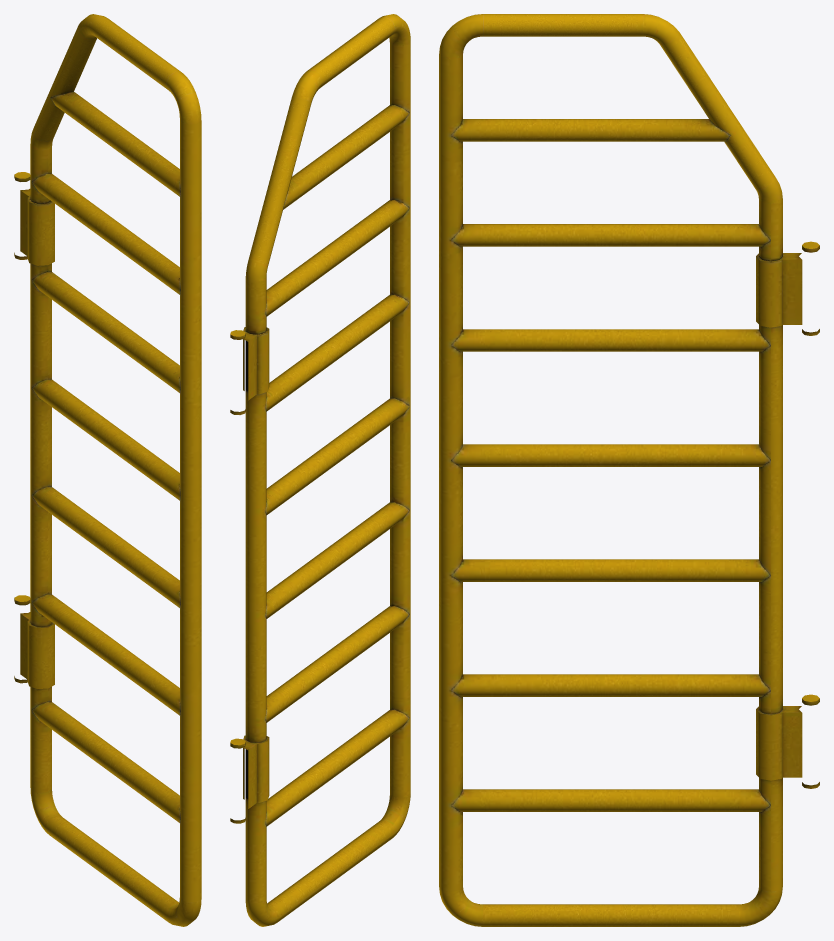
3 views of the same model, side by side, from view 1: azimuth 30°, elevation 25°; view 2: azimuth 150°, elevation 25°; view 3: azimuth 270°, elevation 25° (orthographic). The views are drawn at different scales.
Visible parts, largest first — view 1: body0_model0_lod0_mesh0; view 2: body0_model0_lod0_mesh0; view 3: body0_model0_lod0_mesh0.
Part boxes in pixels (<box>): body0_model0_lod0_mesh0: <box>14,14,201,926</box>; body0_model0_lod0_mesh0: <box>230,14,410,926</box>; body0_model0_lod0_mesh0: <box>439,14,819,926</box>.
Bounding box in the file's own units: 7.5 × 252 × 95.25.
1 material, 1 textured.
